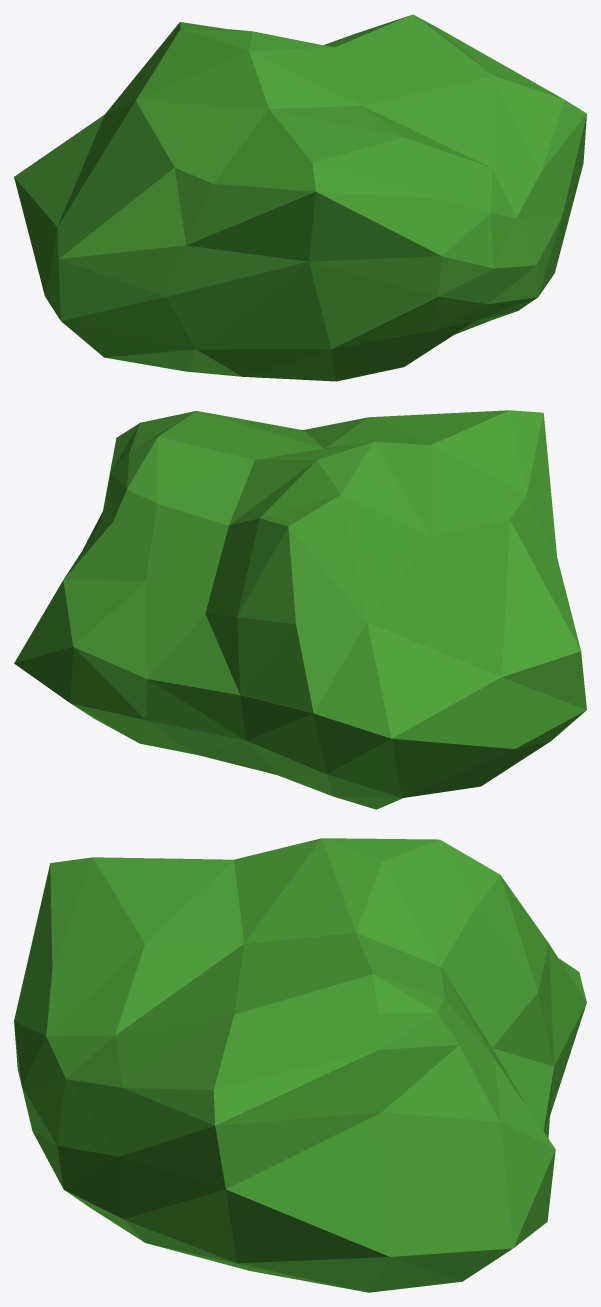
Rendered from Bush.fbx.
3 renders of one model, top to bottom at view 1: azimuth 30°, elevation 25°; view 2: azimuth 150°, elevation 25°; view 3: azimuth 270°, elevation 25°, orthographic. The views are drawn at different scales.
Parts seen in each view (by area): view 1: Bush; view 2: Bush; view 3: Bush.
Part boxes in pixels (box(x1,y1,x2,y2)): Bush: box(14, 14, 586, 381); Bush: box(14, 410, 586, 809); Bush: box(14, 838, 586, 1292).
Size of the model in its own units: 131 by 75.51 by 112.
